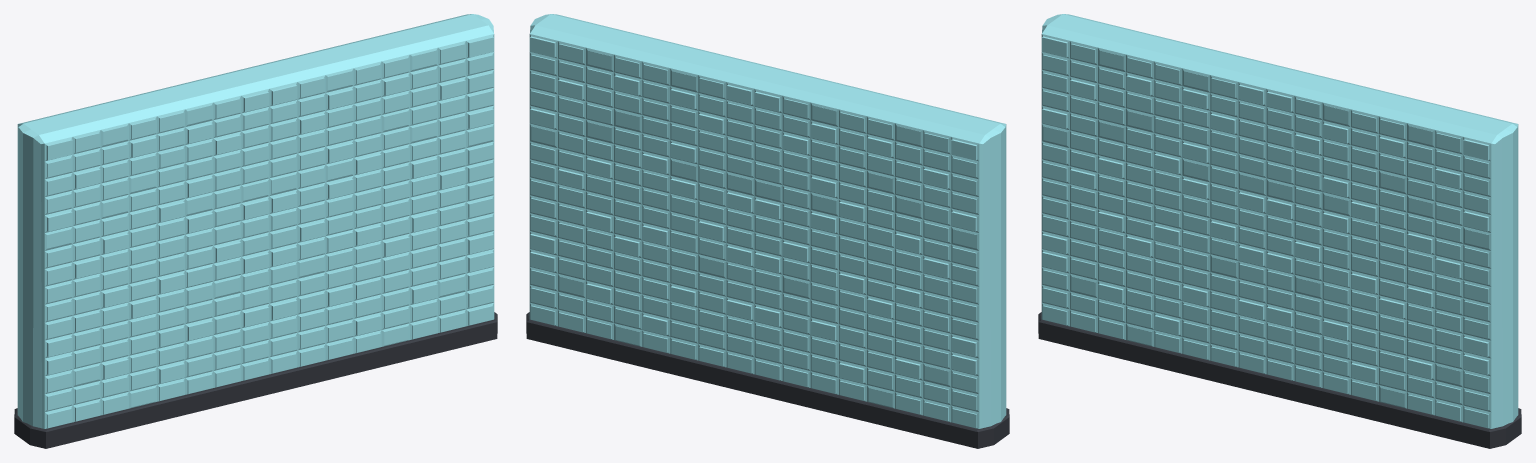
File: parede.fbx
3 views of the same model, side by side, from view 1: azimuth 30°, elevation 25°; view 2: azimuth 150°, elevation 25°; view 3: azimuth 330°, elevation 25° (orthographic).
Visible parts, largest first — view 1: Cube, Cube.001; view 2: Cube, Cube.001; view 3: Cube, Cube.001.
Part boxes in pixels (x1=…): Cube: x1=17, y1=14, x2=494, y2=428; Cube.001: x1=14, y1=312, x2=497, y2=448; Cube: x1=529, y1=14, x2=1006, y2=428; Cube.001: x1=526, y1=312, x2=1009, y2=448; Cube: x1=1041, y1=14, x2=1518, y2=428; Cube.001: x1=1038, y1=312, x2=1521, y2=448.
Size of the model in its own units: 228 by 144 by 26.54.
